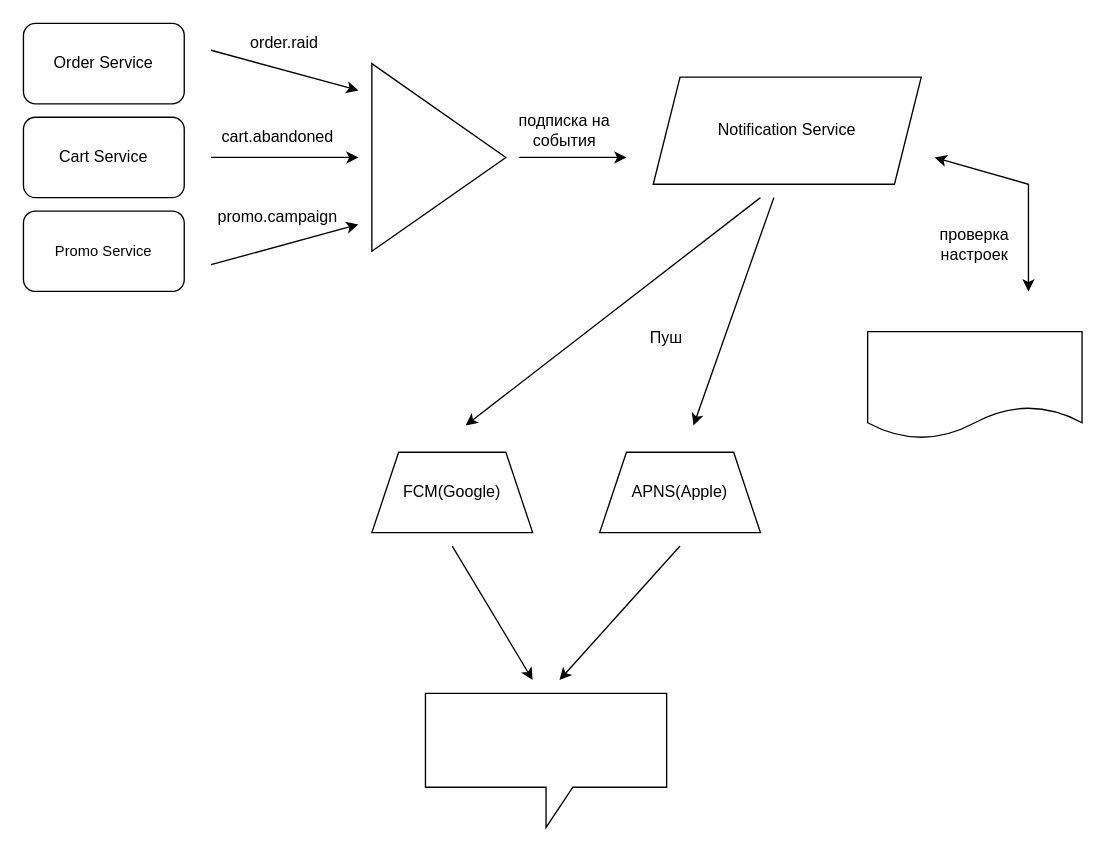
The diagram is 1106 pixels wide and 851 high, and some of its shapes have lost their labels. Each missing label, with the box of its shape:
User Preferences Service: (866, 330, 1082, 439)
Кafka/RabbitMQ: (371, 62, 506, 251)
Мobile App: (424, 692, 667, 827)
